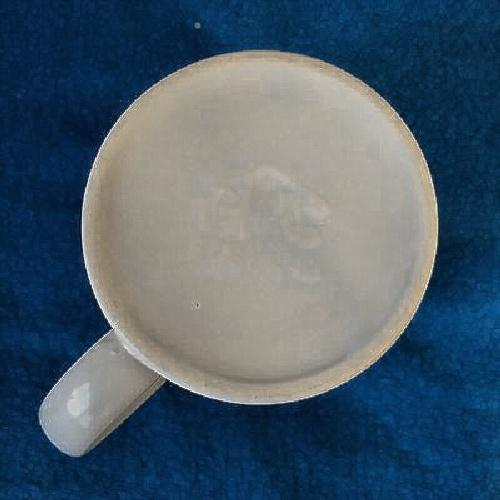mug: (70, 61, 444, 429)
